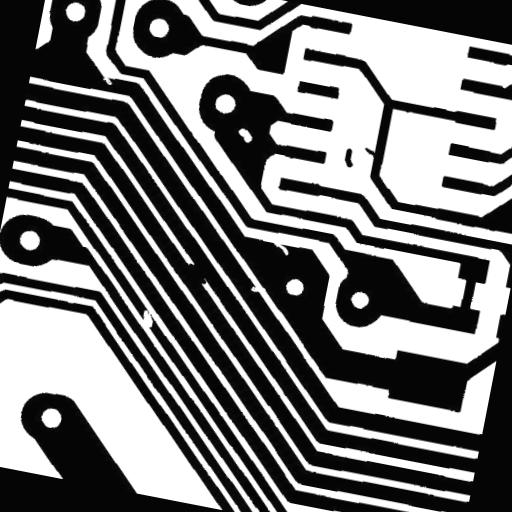copper: (334, 139, 364, 176)
mousebite: (260, 230, 298, 264), (93, 65, 122, 94), (241, 277, 269, 302)
open: (132, 300, 163, 336)
pin-hole: (228, 118, 262, 152)
short: (176, 254, 218, 293)
spur: (354, 138, 386, 168)
